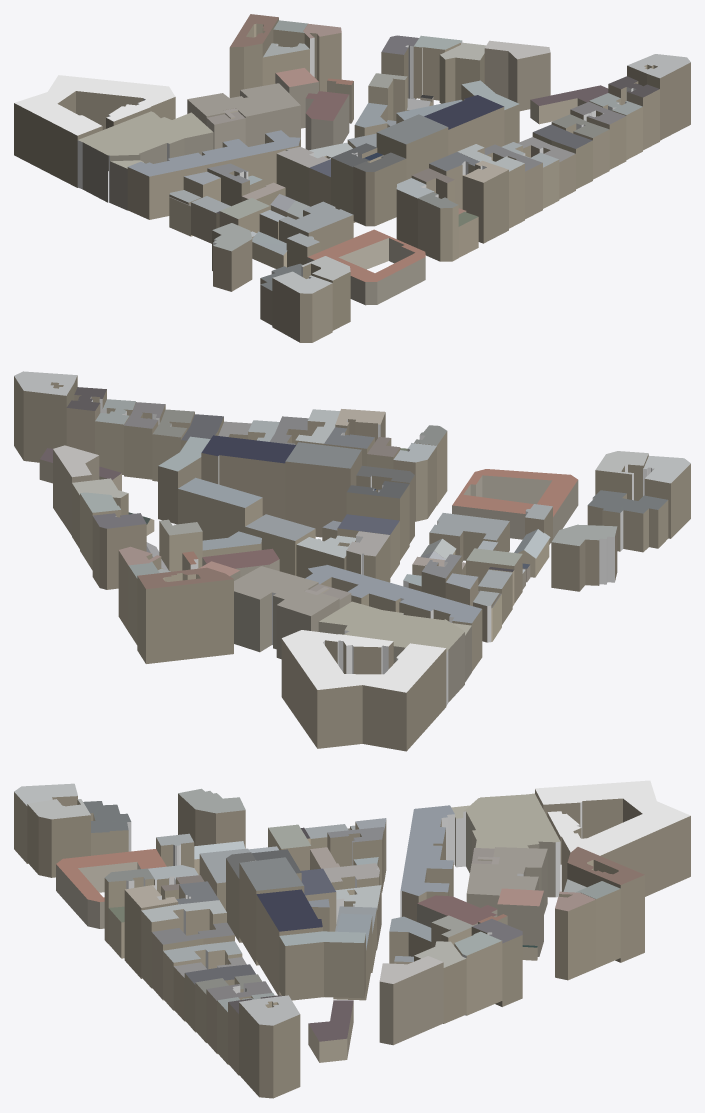
3 renders of one model, top to bottom at view 1: azimuth 30°, elevation 25°; view 2: azimuth 150°, elevation 25°; view 3: azimuth 270°, elevation 25°, orthographic. The views are drawn at different scales.
Visible parts, largest first — view 1: tuile; view 2: tuile; view 3: tuile.
Part boxes in pixels (bbox=[...]): tuile: bbox=[14, 14, 690, 342]; tuile: bbox=[14, 371, 690, 751]; tuile: bbox=[14, 780, 690, 1098].
Bounding box in the file's own units: 240 × 41.1 × 236.
